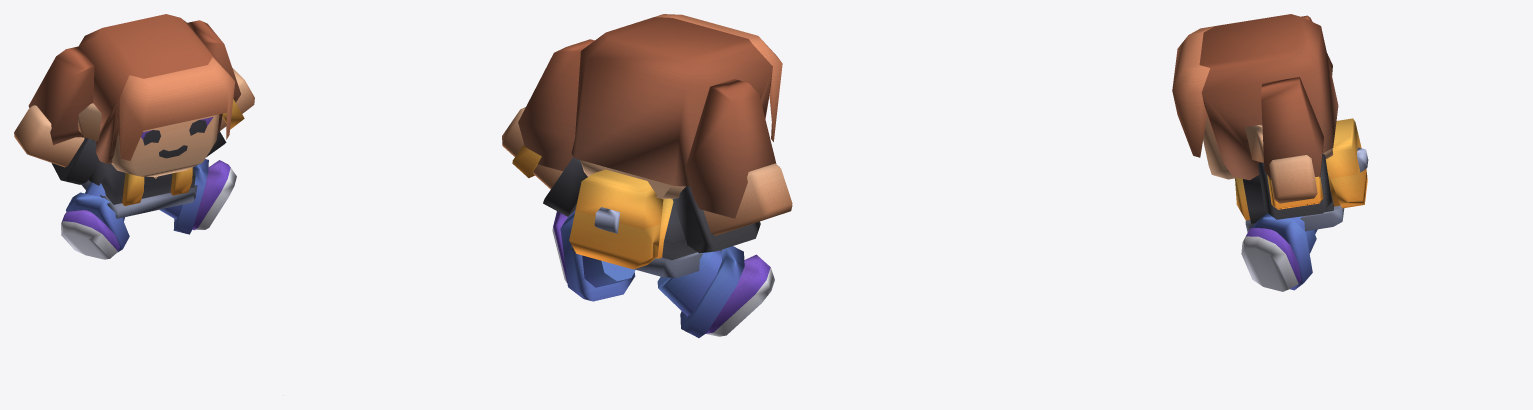
File: climber_fall_0.glb
3 renders of one model, left to right at view 1: azimuth 30°, elevation 25°; view 2: azimuth 150°, elevation 25°; view 3: azimuth 270°, elevation 25°, orthographic. The views are drawn at different scales.
Visible parts, largest first — view 1: climber-fall-0; view 2: climber-fall-0; view 3: climber-fall-0.
Boxes of the visible parts, box(x1,y1,x2,y2) form: climber-fall-0: box(14, 14, 254, 259); climber-fall-0: box(502, 14, 792, 337); climber-fall-0: box(1172, 14, 1368, 291).
Bounding box in the file's own units: 1.2 × 0.7572 × 1.2.
Materials: 1 (1 with a texture image).
